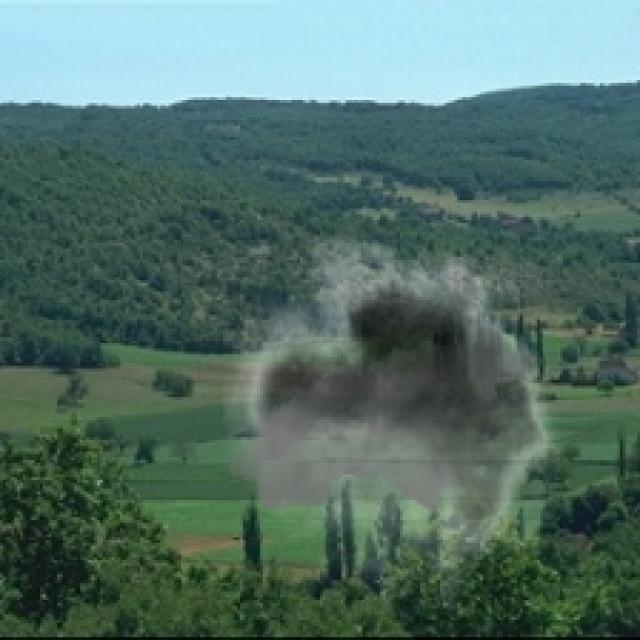Smoke: (222, 217, 574, 617)
